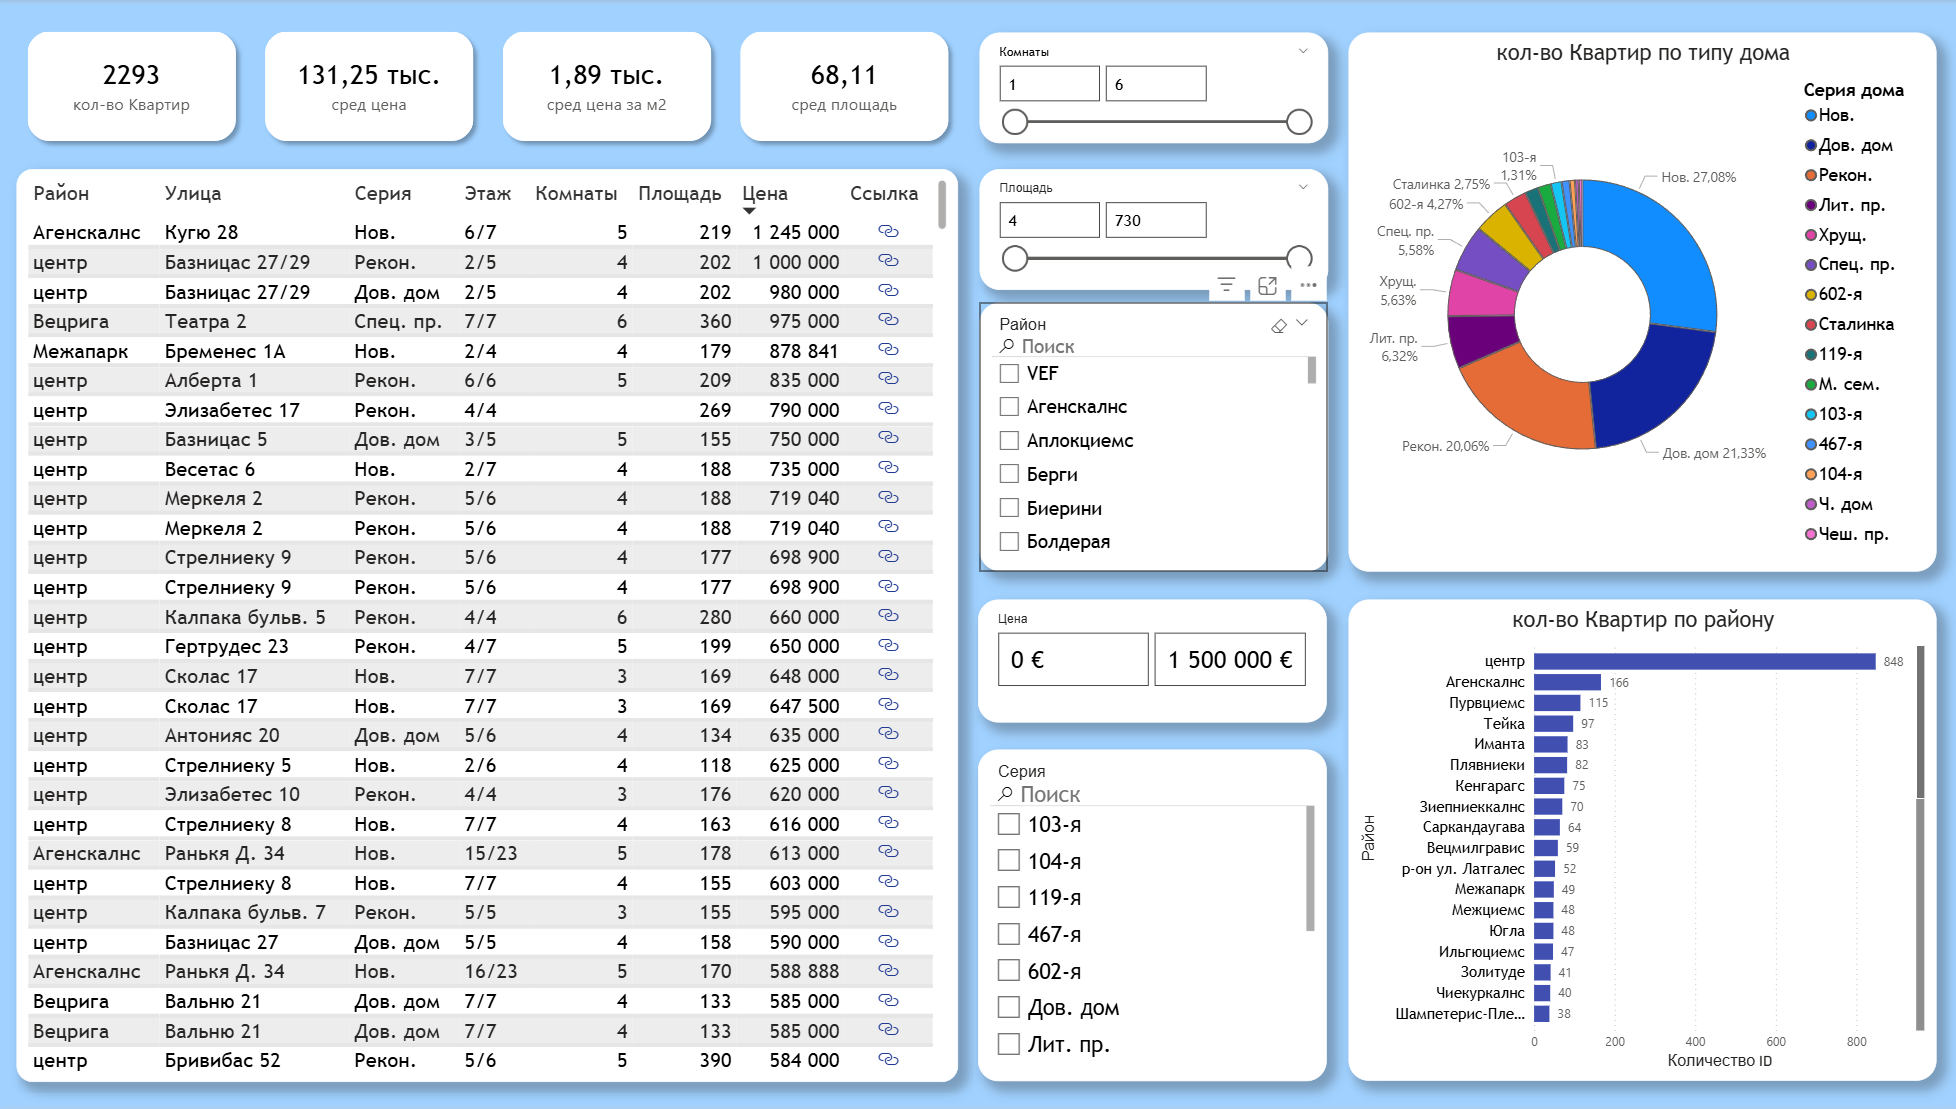

This screenshot's page, from the dashboard's own definition file:
{"tool":"powerbi","page":{"name":"Основная стр","canvas":[1920,1080],"ordinal":0},"visuals":[{"type":"tableEx","fields":{"Values":["riga_flats_2026-02-11.Район","riga_flats_2026-02-11.Улица","riga_flats_2026-02-11.Серия","riga_flats_2026-02-11.Этаж","riga_flats_2026-02-11.Комнаты","riga_flats_2026-02-11.Площадь","riga_flats_2026-02-11.Цена","riga_flats_2026-02-11.Ссылка"]},"box":[16.7,161.7,923.3,895],"z":0},{"type":"slicer","fields":{"Values":["riga_flats_2026-02-11.Серия"]},"box":[959.7,731.3,341.8,325.4],"z":1000},{"type":"slicer","fields":{"Values":["riga_flats_2026-02-11.Площадь"]},"box":[960,161.7,341.7,118.3],"z":2000},{"type":"slicer","fields":{"Values":["riga_flats_2026-02-11.Комнаты"]},"box":[960,28.3,341.7,108.3],"z":3000},{"type":"cardVisual","fields":{"Data":["CountNonNull(riga_flats_2026-02-11.ID)","Avg(riga_flats_2026-02-11.Цена)","Avg(riga_flats_2026-02-11.Цена за м2)","Avg(riga_flats_2026-02-11.Площадь)"]},"box":[0,0,960,161.7],"z":4000},{"type":"barChart","title":"кол-во Квартир по району","fields":{"Category":["riga_flats_2026-02-11.Район"],"Y":["CountNonNull(riga_flats_2026-02-11.ID)"]},"box":[1321.7,583.3,576.7,471.7],"z":5000},{"type":"donutChart","title":"кол-во Квартир по типу дома","fields":{"Category":["riga_flats_2026-02-11.Серия"],"Y":["CountNonNull(riga_flats_2026-02-11.ID)"]},"box":[1321.7,28.3,576.7,528.3],"z":6000},{"type":"slicer","fields":{"Values":["riga_flats_2026-02-11.Район"]},"box":[960,293.3,341.7,263.3],"z":7000},{"type":"slicer","fields":{"Values":["riga_flats_2026-02-11.Цена"]},"box":[959.7,583.6,341.8,120.9],"z":8000}]}

Visuals, with their boxes in screenshot pixels (x1, y1, x2, y2), scaled from the page's 1920x1080 canvas onto the 1956x1109 screenshot:
tableEx - riga_flats_2026-02-11.Район x riga_flats_2026-02-11.Улица: (x1=17, y1=166, x2=958, y2=1085)
slicer - riga_flats_2026-02-11.Серия: (x1=978, y1=751, x2=1326, y2=1085)
slicer - riga_flats_2026-02-11.Площадь: (x1=978, y1=166, x2=1326, y2=288)
slicer - riga_flats_2026-02-11.Комнаты: (x1=978, y1=29, x2=1326, y2=140)
cardVisual - CountNonNull(riga_flats_2026-02-11.ID) x Avg(riga_flats_2026-02-11.Цена): (x1=0, y1=0, x2=978, y2=166)
"кол-во Квартир по району" barChart: (x1=1346, y1=599, x2=1934, y2=1083)
"кол-во Квартир по типу дома" donutChart: (x1=1346, y1=29, x2=1934, y2=572)
slicer - riga_flats_2026-02-11.Район: (x1=978, y1=301, x2=1326, y2=572)
slicer - riga_flats_2026-02-11.Цена: (x1=978, y1=599, x2=1326, y2=723)
